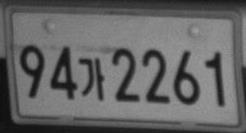1: (203, 51, 232, 107)
2: (111, 47, 140, 102), (142, 48, 170, 104)
4: (50, 46, 77, 100)
6: (173, 49, 200, 105)
9: (19, 43, 45, 97)
가: (78, 56, 104, 101)
